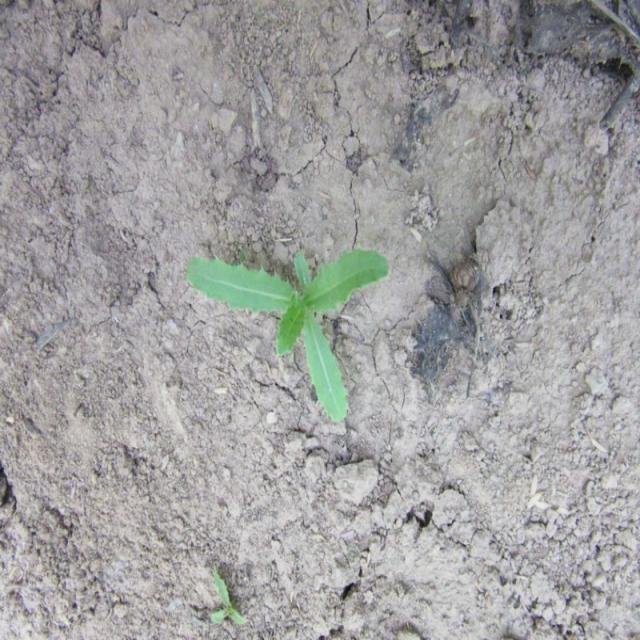field_thistle: (186, 226, 400, 441)
